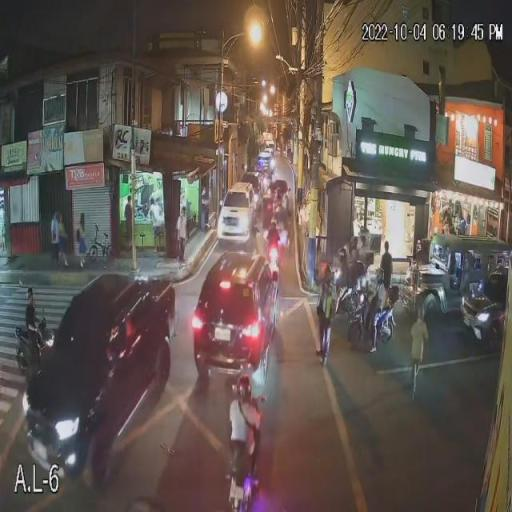helmet: (238, 374, 252, 397), (373, 268, 386, 285), (22, 287, 34, 303), (338, 248, 347, 262)
motorcycle: (226, 392, 264, 512), (347, 289, 397, 352), (14, 322, 56, 383), (330, 274, 364, 318), (266, 244, 286, 282), (271, 199, 289, 232)
rider: (228, 374, 263, 493), (360, 267, 386, 353), (22, 286, 46, 346), (264, 219, 285, 266), (338, 248, 355, 286)
